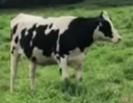cow: (11, 14, 121, 93)
